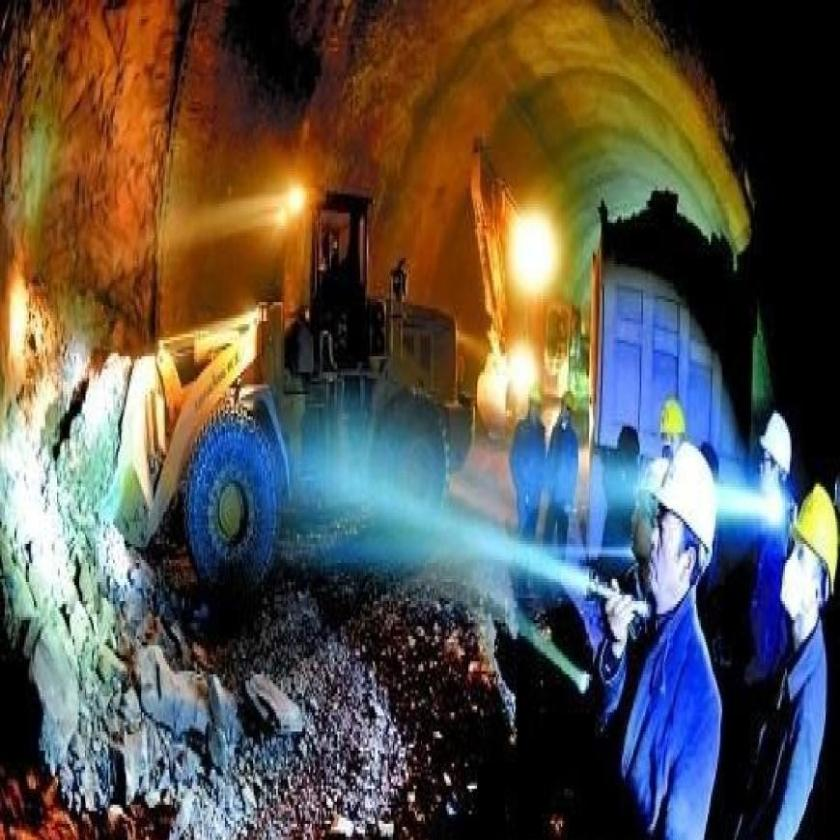Con_casco: (649, 447, 721, 621), (779, 486, 837, 629), (756, 412, 793, 501), (659, 396, 685, 453)
